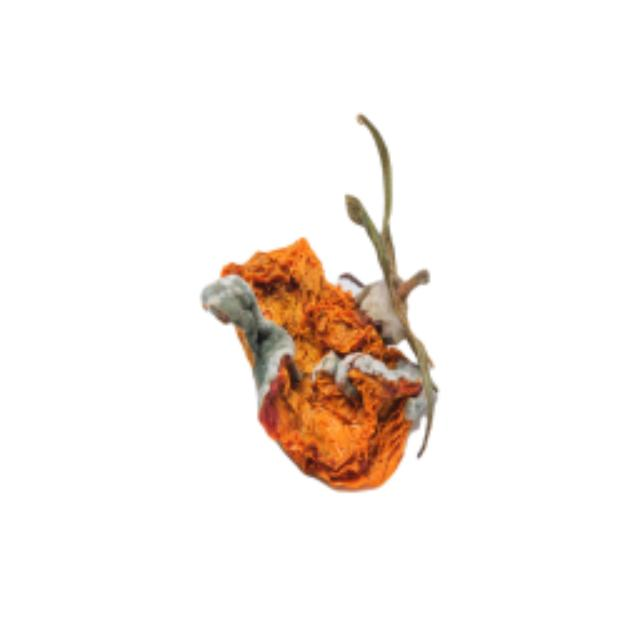defect: (194, 213, 443, 498)
